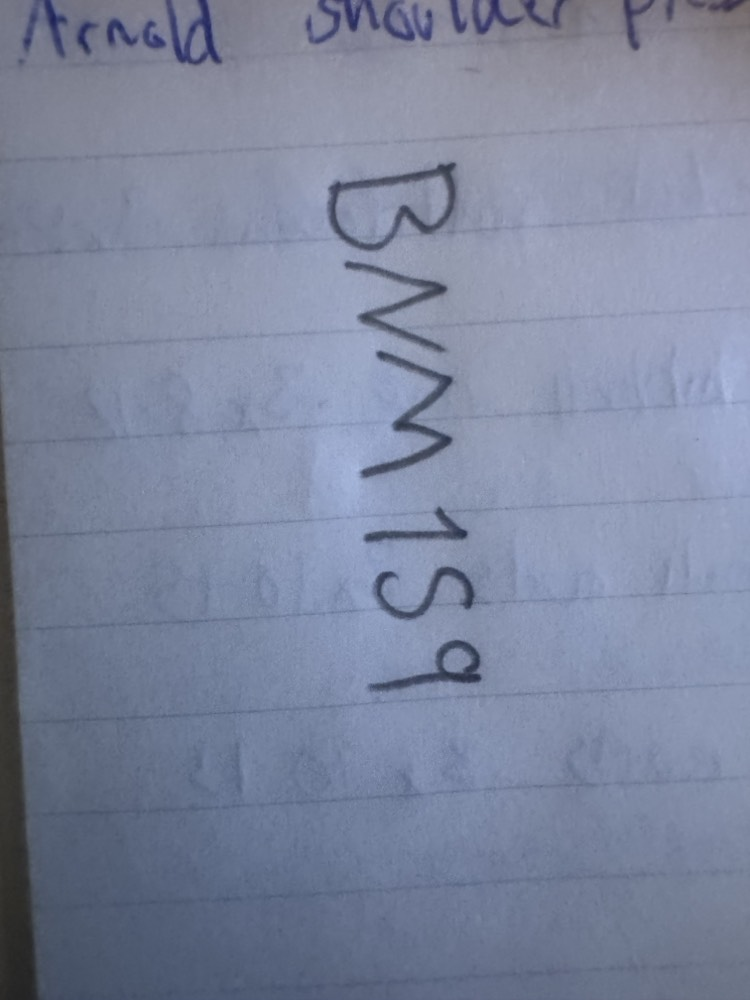OCR_AREA: (326, 156, 487, 702)
